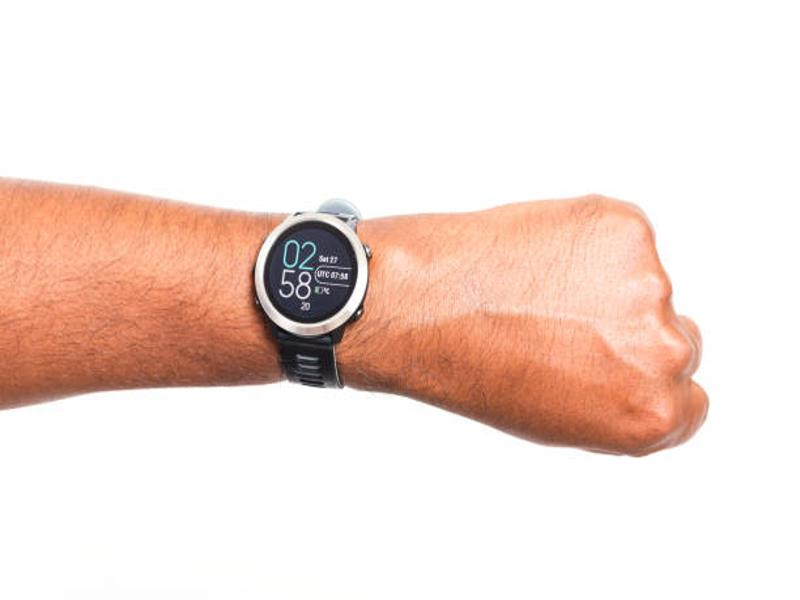watch: (252, 200, 374, 392)
